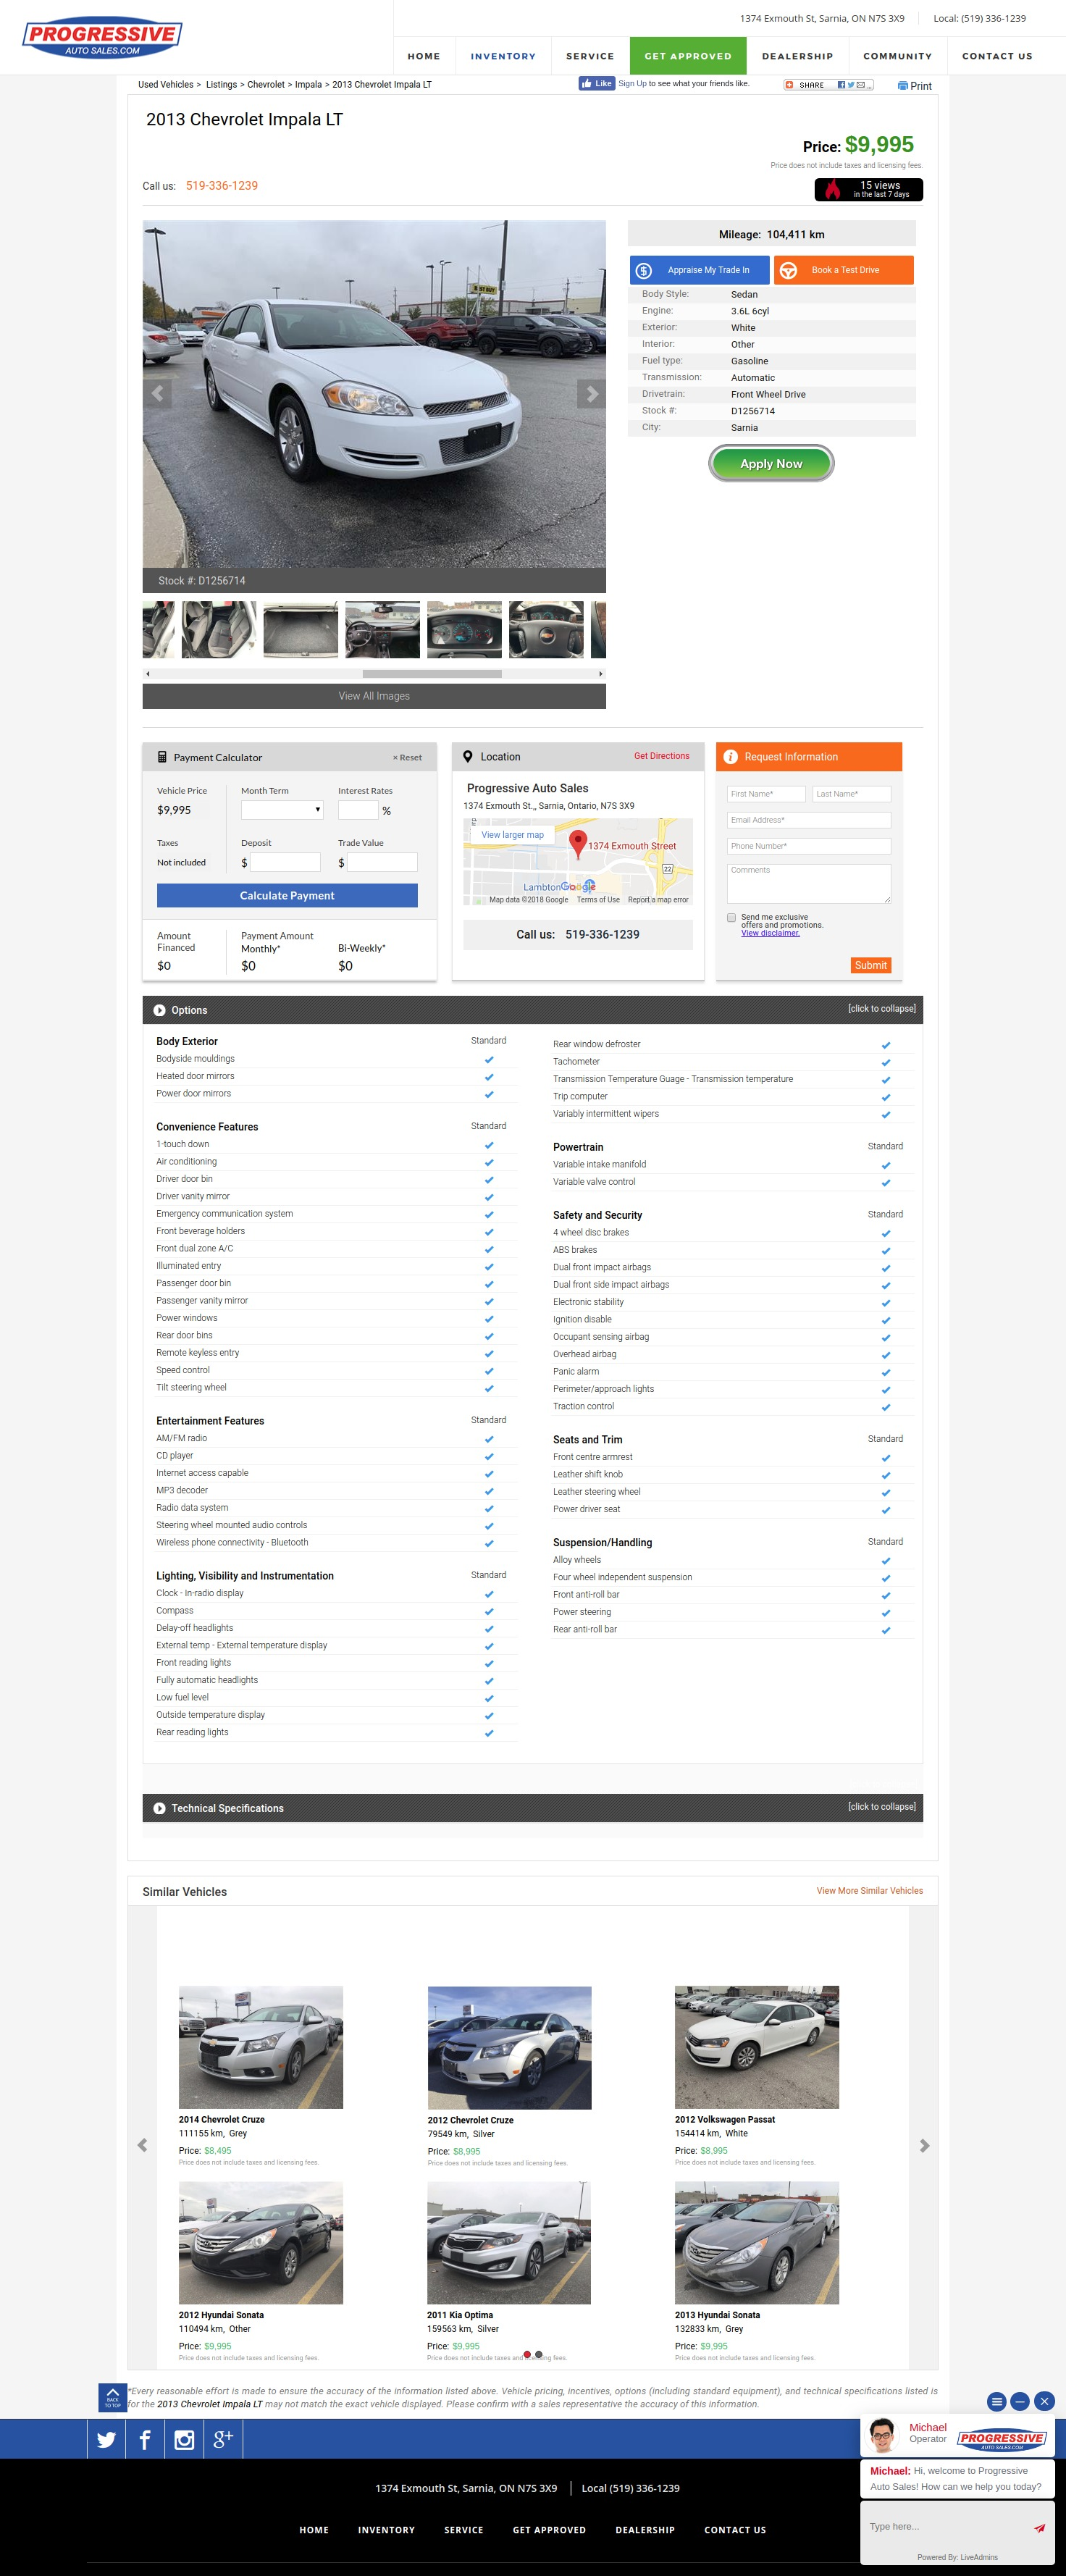car: (600, 672, 604, 678)
